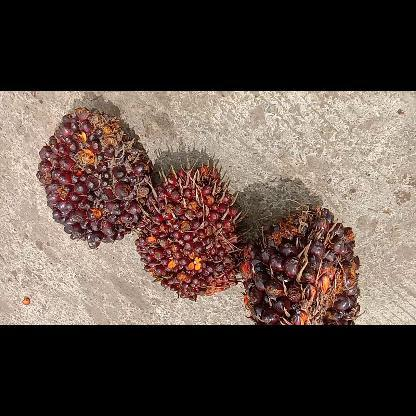Kurang masak: (38, 106, 150, 250), (136, 159, 240, 301)
TBS masak: (242, 206, 362, 324)
